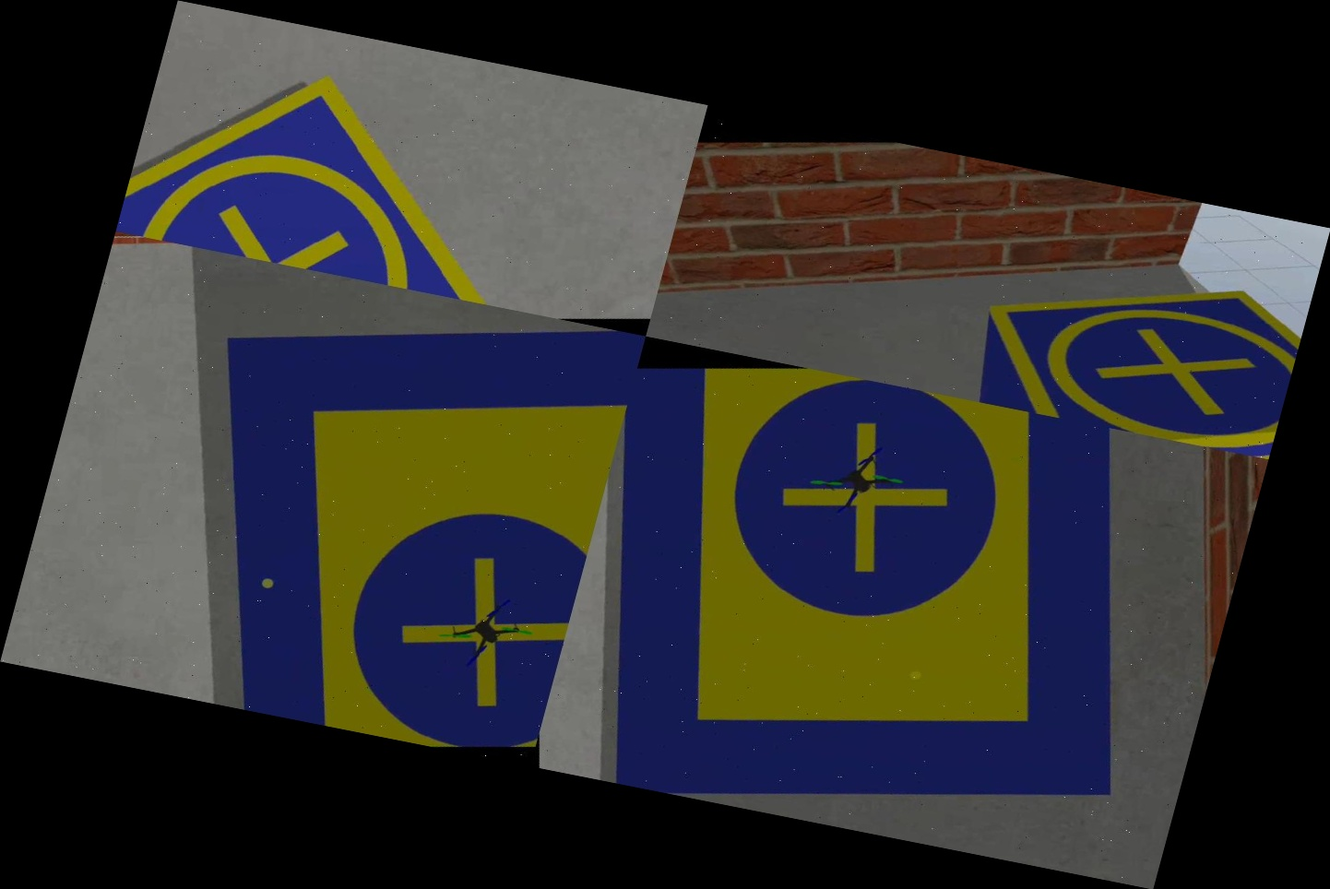large_base: (530, 337, 1205, 876), (133, 257, 646, 765)
small_base: (115, 9, 554, 306), (954, 207, 1319, 459)
